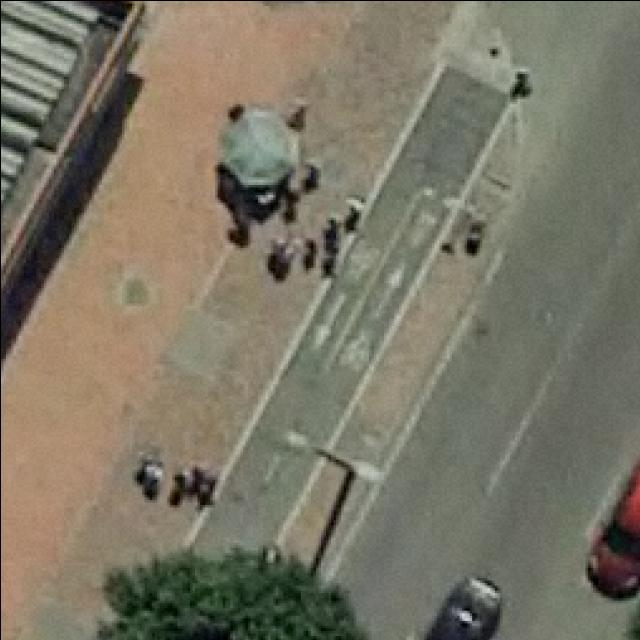vendedor_ambulante: (214, 104, 301, 191)
